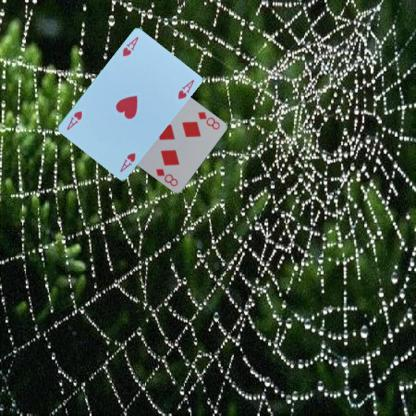8d: (194, 109, 220, 131)
Ah: (119, 34, 140, 58), (117, 150, 137, 174)
